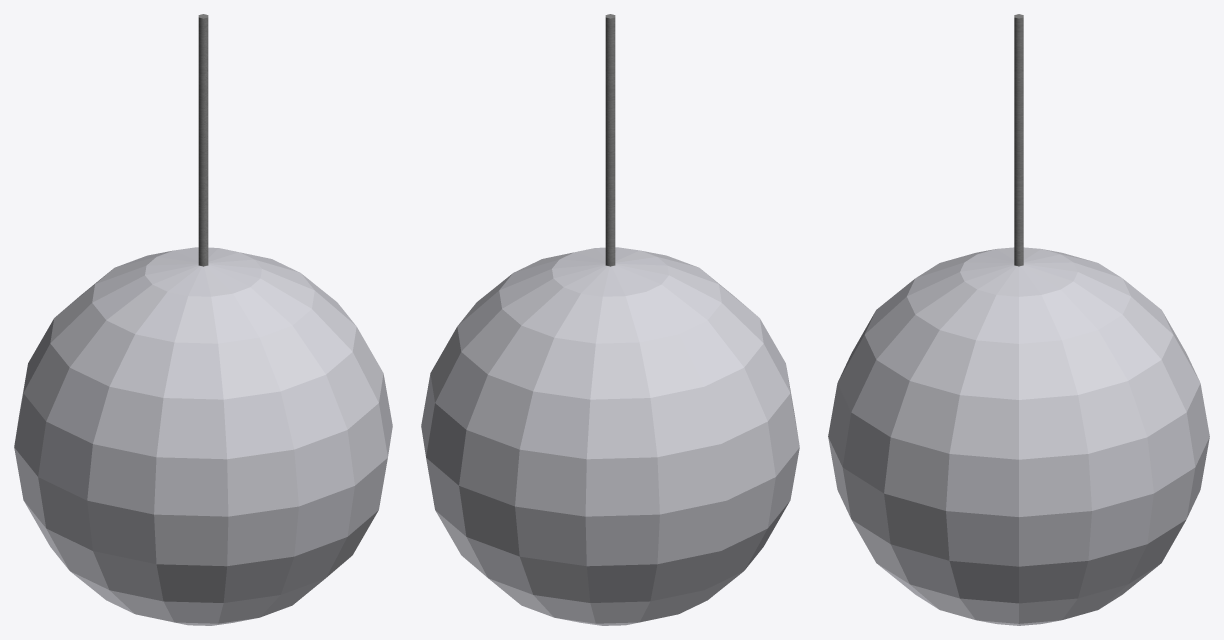
The model's file is disco_ball.glb.
3 renders of one model, left to right at view 1: azimuth 30°, elevation 25°; view 2: azimuth 150°, elevation 25°; view 3: azimuth 270°, elevation 25°, orthographic.
Visible parts, largest first — view 1: disco_ball_body; view 2: disco_ball_body; view 3: disco_ball_body.
Boxes of the visible parts, <box> form: disco_ball_body: <box>14,14,392,625</box>; disco_ball_body: <box>421,14,799,625</box>; disco_ball_body: <box>828,14,1209,625</box>.
Size of the model in its own units: 0.7 by 1.2 by 0.7.
2 materials, 1 textured.
